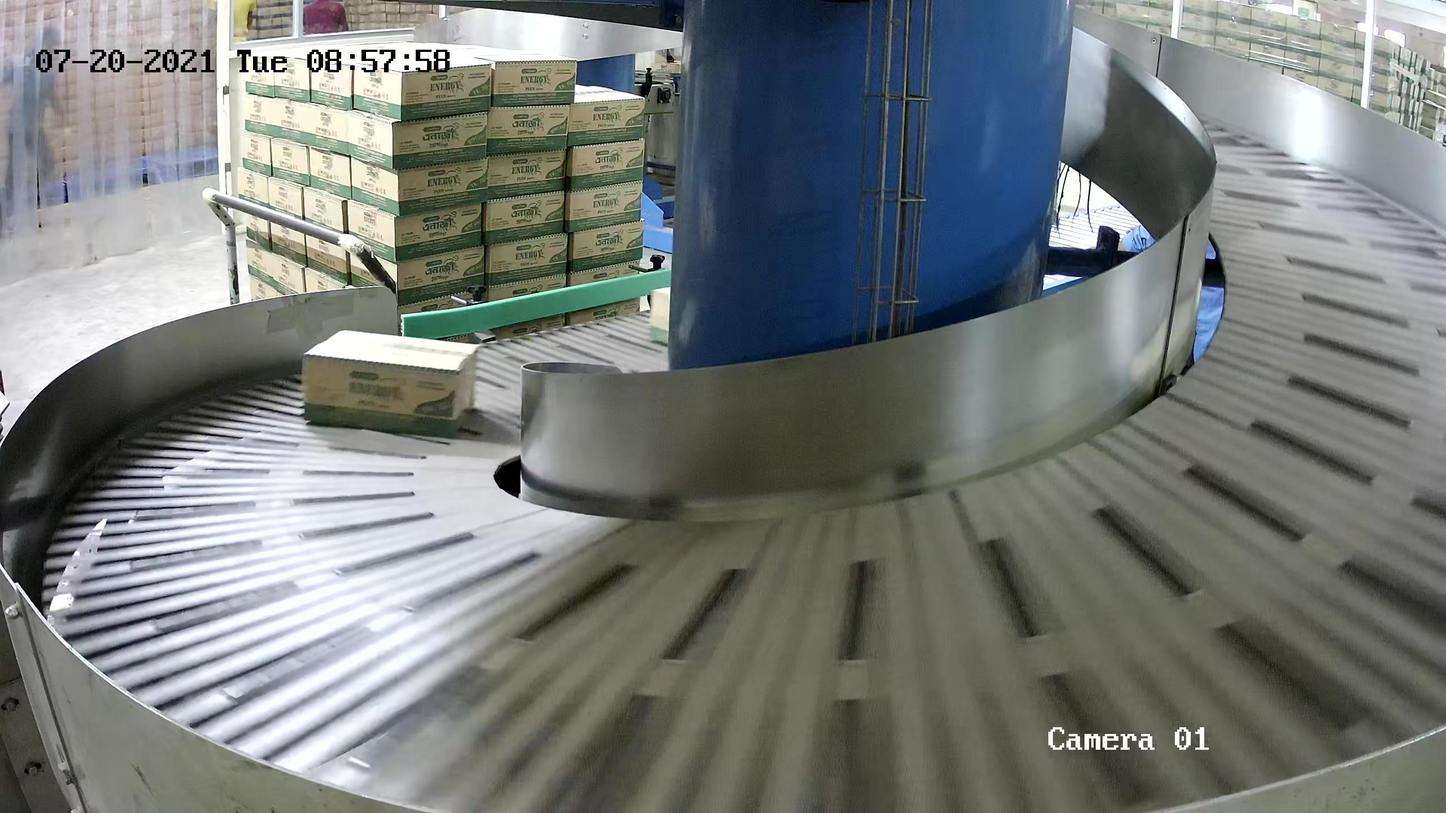Box: (303, 330, 477, 440)
